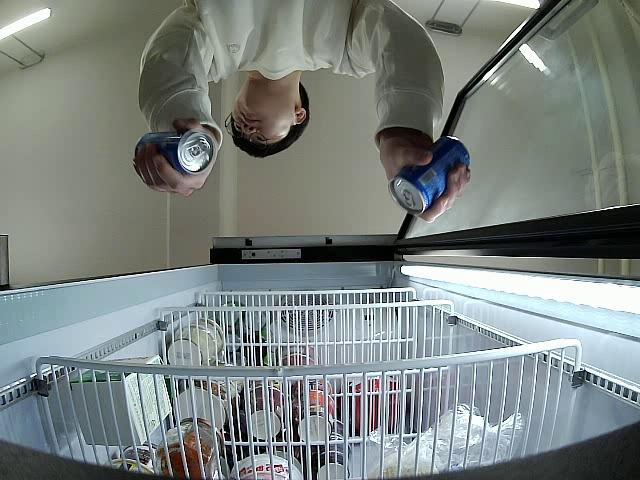00_hand: (379, 136, 469, 224), (133, 119, 218, 197)
15_letsbe: (390, 134, 468, 214), (133, 131, 215, 175)
